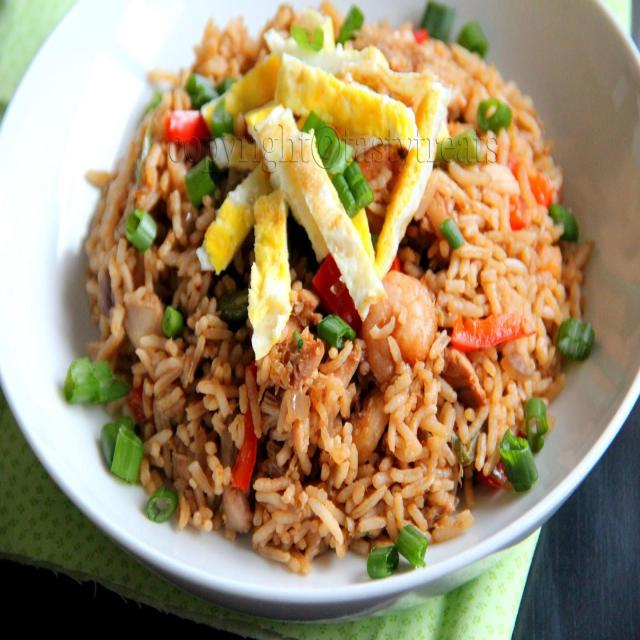Nasi Goreng: (77, 11, 597, 544)
